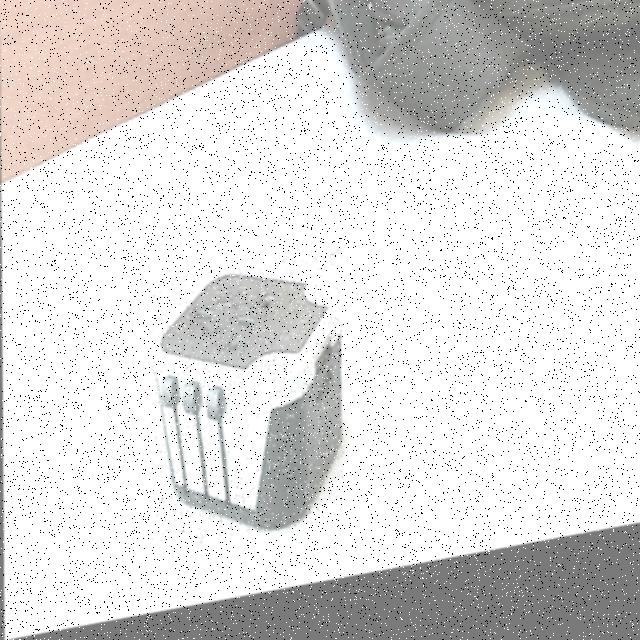adapter: (150, 260, 343, 558)
